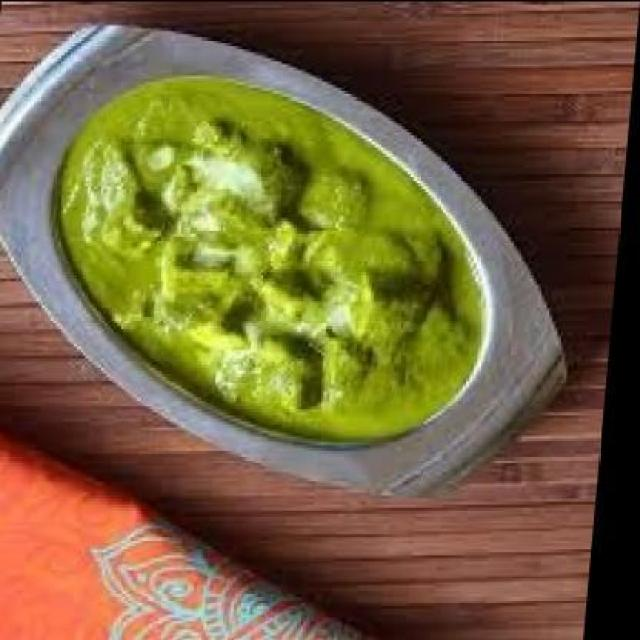palak_paneer: (45, 77, 509, 440)
